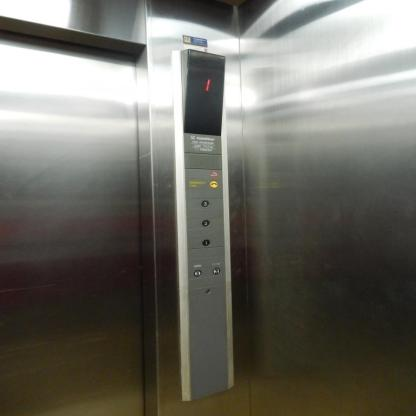1: (200, 238, 211, 247)
2: (200, 218, 210, 227)
3: (200, 199, 210, 208)
alarm: (208, 180, 218, 188)
close: (211, 267, 221, 275)
led: (179, 47, 231, 140)
open: (192, 269, 203, 277)
